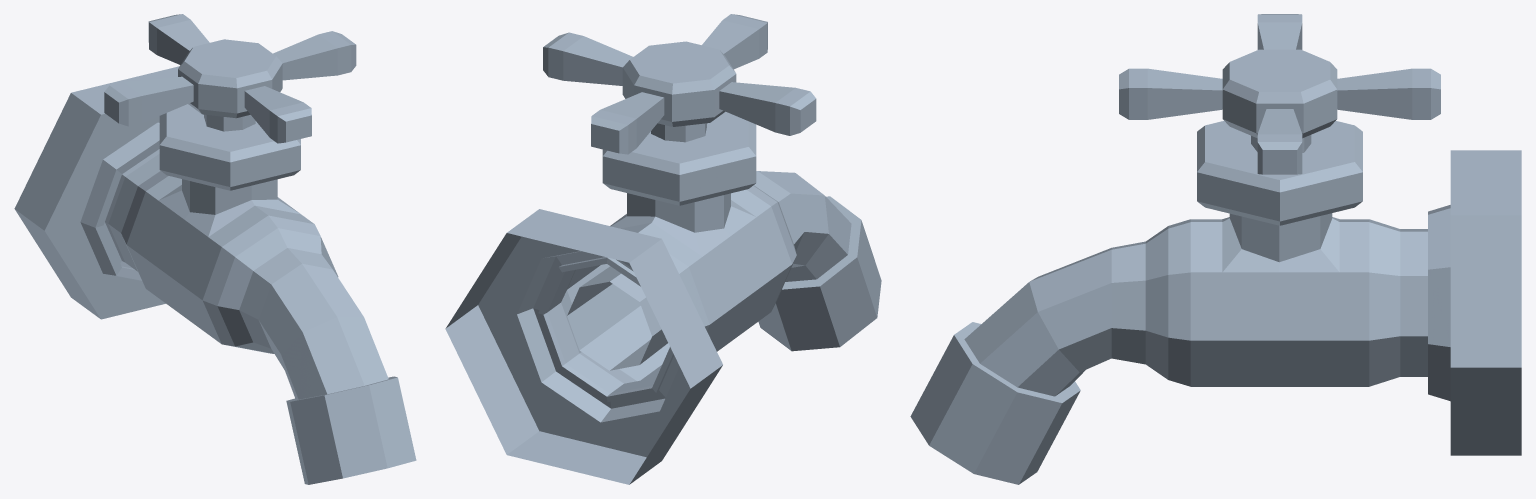
File: Faucet.gltf
The picture shows the model from 3 angles, left to right: view 1: azimuth 30°, elevation 25°; view 2: azimuth 150°, elevation 25°; view 3: azimuth 270°, elevation 25°; orthographic projection. The views are drawn at different scales.
Visible parts, largest first — view 1: faucet; view 2: faucet; view 3: faucet.
Boxes of the visible parts, box(x1,y1,x2,y2) form: faucet: box(14, 14, 416, 484); faucet: box(445, 14, 881, 484); faucet: box(910, 14, 1521, 484).
Size of the model in its own units: 0.3609 by 0.4963 by 0.6849.
